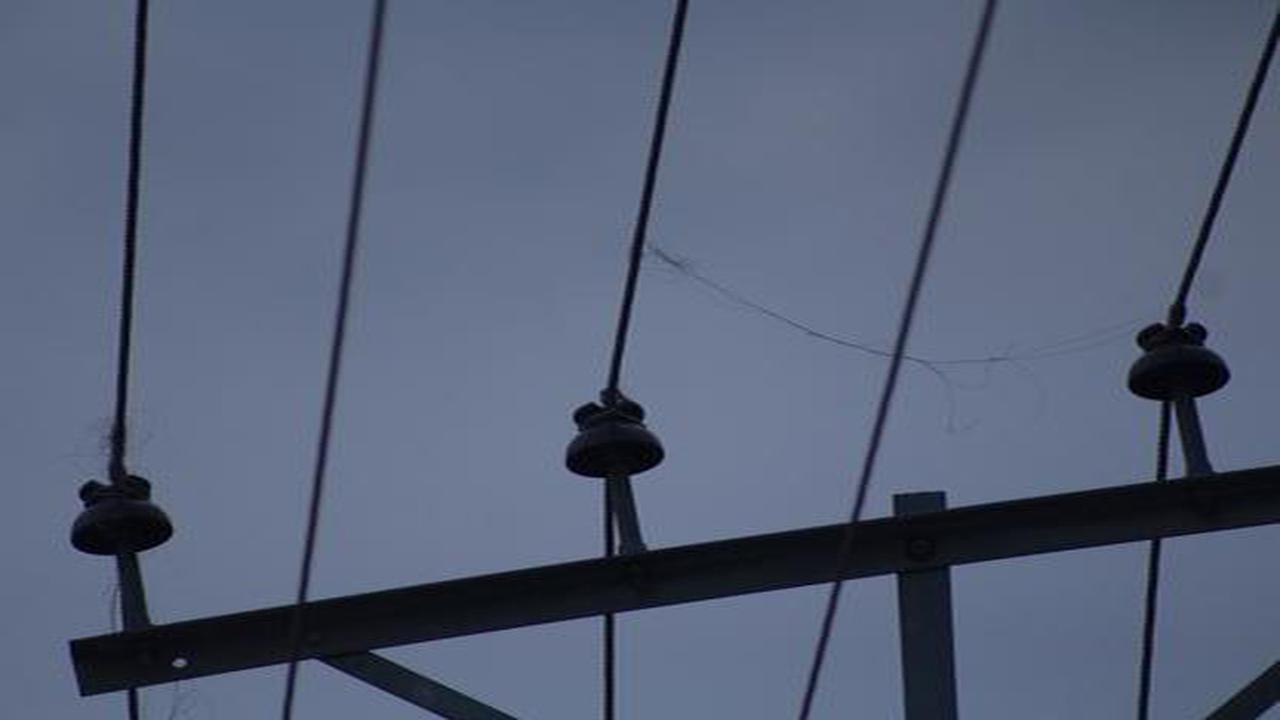insulator_pin: (1120, 314, 1240, 413), (61, 465, 180, 561), (560, 386, 674, 486)
